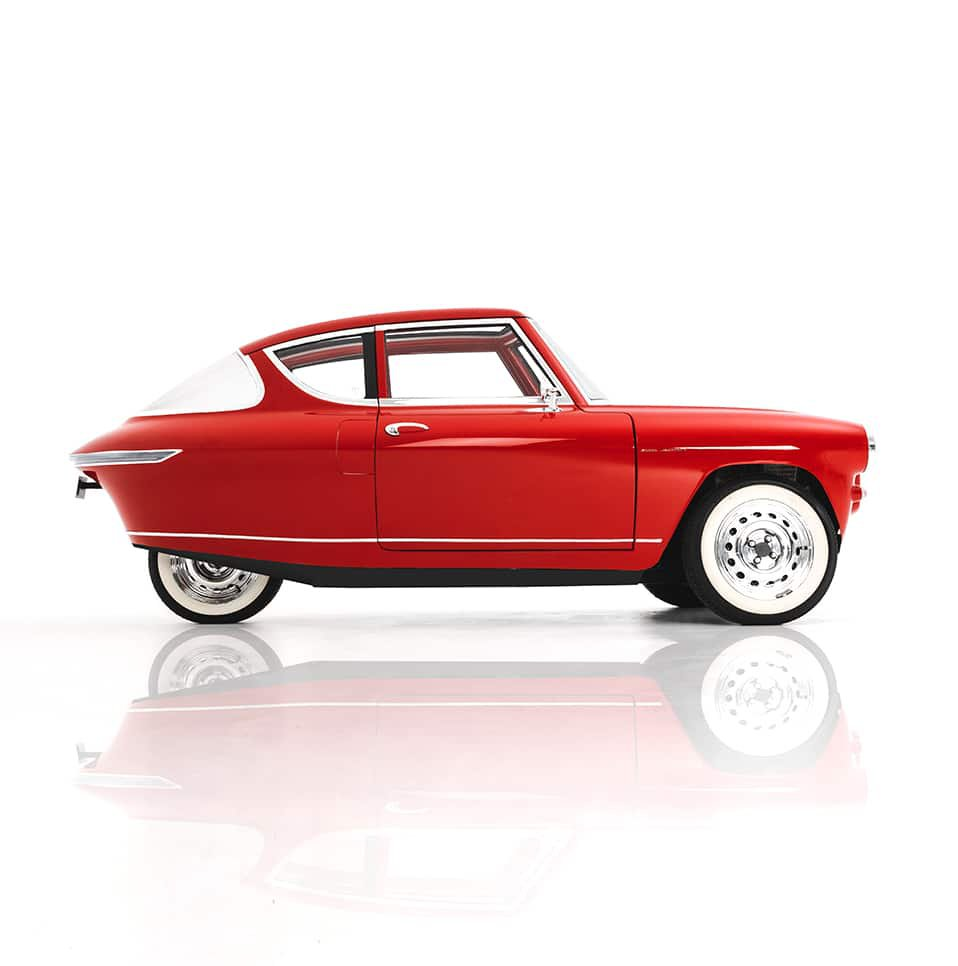car: (72, 304, 868, 668)
